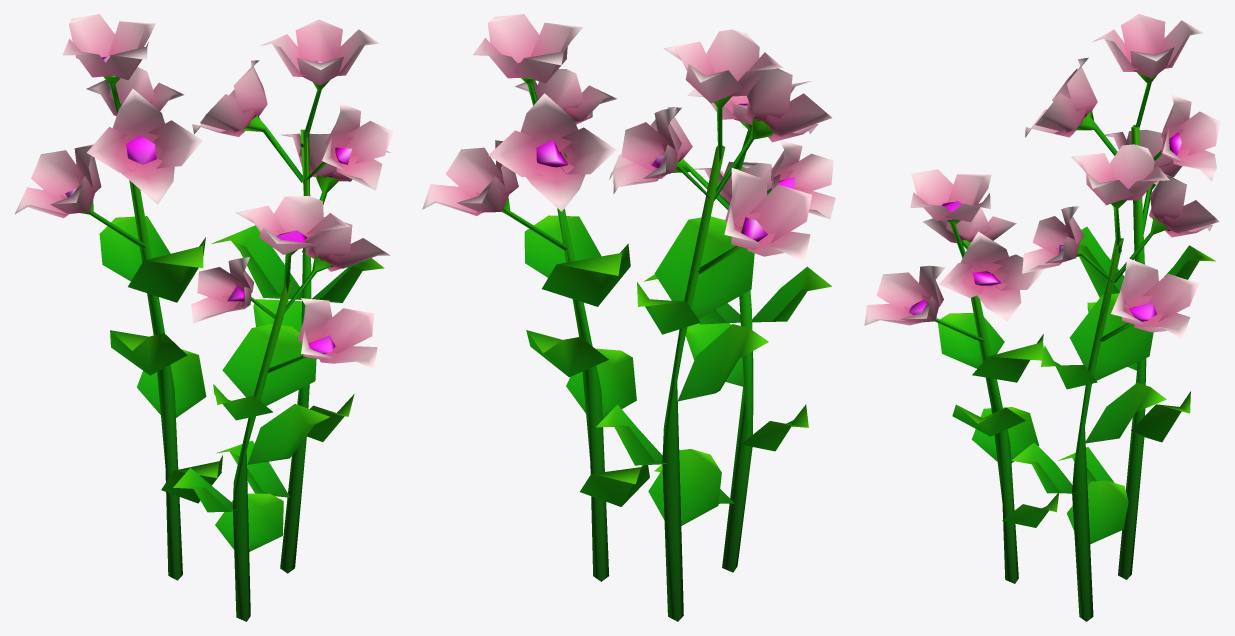
The model's file is flower (5)_LOD2.fbx.
3 renders of one model, left to right at view 1: azimuth 30°, elevation 25°; view 2: azimuth 150°, elevation 25°; view 3: azimuth 270°, elevation 25°, orthographic. The views are drawn at different scales.
Visible parts, largest first — view 1: 04_BalloonFlower; view 2: 04_BalloonFlower; view 3: 04_BalloonFlower.
Part boxes in pixels (<box>): 04_BalloonFlower: <box>14,14,393,621</box>; 04_BalloonFlower: <box>422,14,835,621</box>; 04_BalloonFlower: <box>864,14,1220,621</box>.
Size of the model in its own units: 77.91 by 117 by 72.48.
